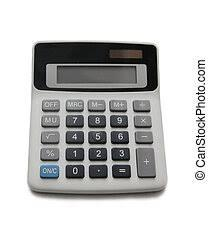Calculator: (17, 30, 183, 205)
